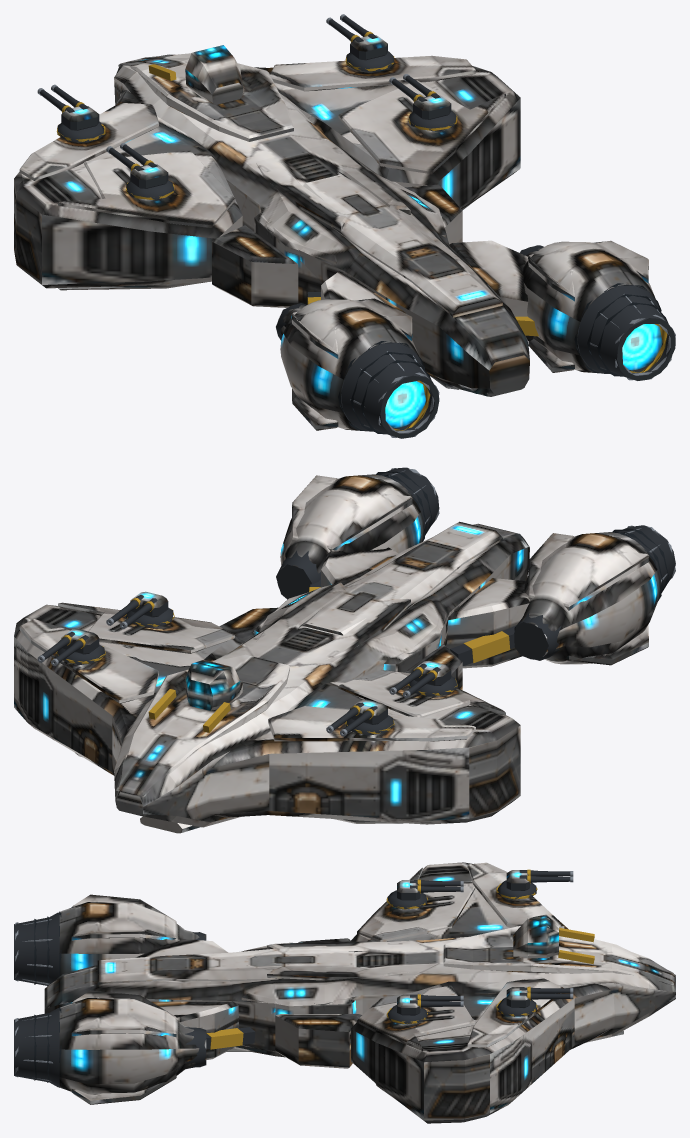
File: corvette-lod2.glb
The picture shows the model from 3 angles, top to bottom: view 1: azimuth 30°, elevation 25°; view 2: azimuth 150°, elevation 25°; view 3: azimuth 270°, elevation 25°; orthographic projection. The views are drawn at different scales.
Visible parts, largest first — view 1: Static / Reference artwork | corvetteium, brass, panels and , Static / Structural frames | gunmetal, Static / Ventral armor | dedicated bottom-view reference, Static / Structural rails | dark alloy, turret.port.1 / Structural frames | gunmetal, turret.starboard.1 / Structural frames | gunmetal, turret.starboard.2 / Structural frames | gunmetal, turret.port.2 / Structural frames | gunmetal, Static / Warm brass collars, Static / Machined corvetteium edges; view 2: Static / Reference artwork | corvetteium, brass, panels and , Static / Structural frames | gunmetal, Static / Ventral armor | dedicated bottom-view reference, Static / Warm brass collars, turret.port.2 / Structural frames | gunmetal, turret.port.1 / Structural frames | gunmetal, turret.starboard.1 / Structural frames | gunmetal, turret.starboard.2 / Structural frames | gunmetal, Static / Structural rails | dark alloy; view 3: Static / Reference artwork | corvetteium, brass, panels and , Static / Structural frames | gunmetal, Static / Ventral armor | dedicated bottom-view reference, Static / Warm brass collars, turret.starboard.1 / Structural frames | gunmetal, turret.port.1 / Structural frames | gunmetal, turret.starboard.2 / Structural frames | gunmetal, turret.port.2 / Structural frames | gunmetal, Static / Structural rails | dark alloy, Static / Machined corvetteium edges.
Boxes of the visible parts, x1,y1,x2,y2 form: Static / Reference artwork | corvetteium, brass, panels and : [14, 45, 662, 429]; Static / Structural frames | gunmetal: [276, 245, 675, 438]; Static / Ventral armor | dedicated bottom-view reference: [24, 73, 602, 431]; Static / Structural rails | dark alloy: [338, 283, 668, 434]; turret.port.1 / Structural frames | gunmetal: [39, 86, 104, 142]; turret.starboard.1 / Structural frames | gunmetal: [328, 16, 394, 71]; turret.starboard.2 / Structural frames | gunmetal: [391, 75, 456, 131]; turret.port.2 / Structural frames | gunmetal: [108, 144, 173, 200]; Static / Warm brass collars: [148, 64, 667, 430]; Static / Machined corvetteium edges: [350, 294, 675, 437]; Static / Reference artwork | corvetteium, brass, panels and : [14, 474, 660, 833]; Static / Structural frames | gunmetal: [276, 467, 675, 665]; Static / Ventral armor | dedicated bottom-view reference: [29, 606, 649, 827]; Static / Warm brass collars: [148, 587, 510, 732]; turret.port.2 / Structural frames | gunmetal: [392, 663, 456, 696]; turret.port.1 / Structural frames | gunmetal: [328, 702, 393, 735]; turret.starboard.1 / Structural frames | gunmetal: [40, 632, 105, 665]; turret.starboard.2 / Structural frames | gunmetal: [109, 595, 173, 627]; Static / Structural rails | dark alloy: [376, 471, 668, 600]; Static / Reference artwork | corvetteium, brass, panels and : [44, 862, 675, 1120]; Static / Structural frames | gunmetal: [14, 912, 255, 1087]; Static / Ventral armor | dedicated bottom-view reference: [59, 926, 675, 1123]; Static / Warm brass collars: [206, 928, 594, 1049]; turret.starboard.1 / Structural frames | gunmetal: [497, 987, 570, 1016]; turret.port.1 / Structural frames | gunmetal: [497, 870, 570, 899]; turret.starboard.2 / Structural frames | gunmetal: [387, 994, 460, 1024]; turret.port.2 / Structural frames | gunmetal: [387, 880, 460, 909]; Static / Structural rails | dark alloy: [34, 911, 61, 1087]; Static / Machined corvetteium edges: [15, 919, 52, 1081].
Bounding box in the file's own units: 9.92 × 3.06 × 14.24.
Materials: 7 (2 with a texture image).
